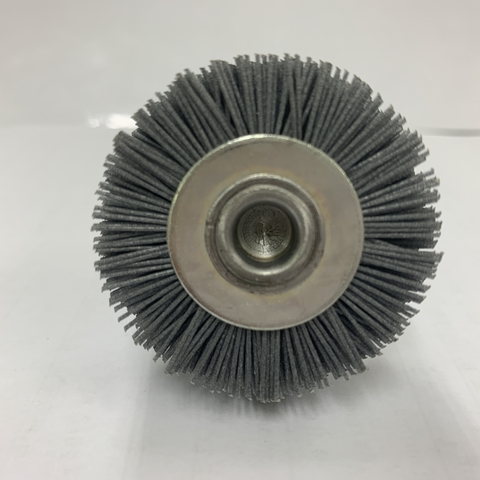Wheel Brush: (80, 39, 456, 405), (136, 44, 456, 408), (96, 62, 413, 405), (90, 97, 444, 404)
